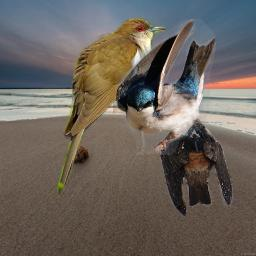Cuckoo: (57, 16, 166, 198)
Swallow: (115, 19, 216, 155), (160, 116, 233, 217)
